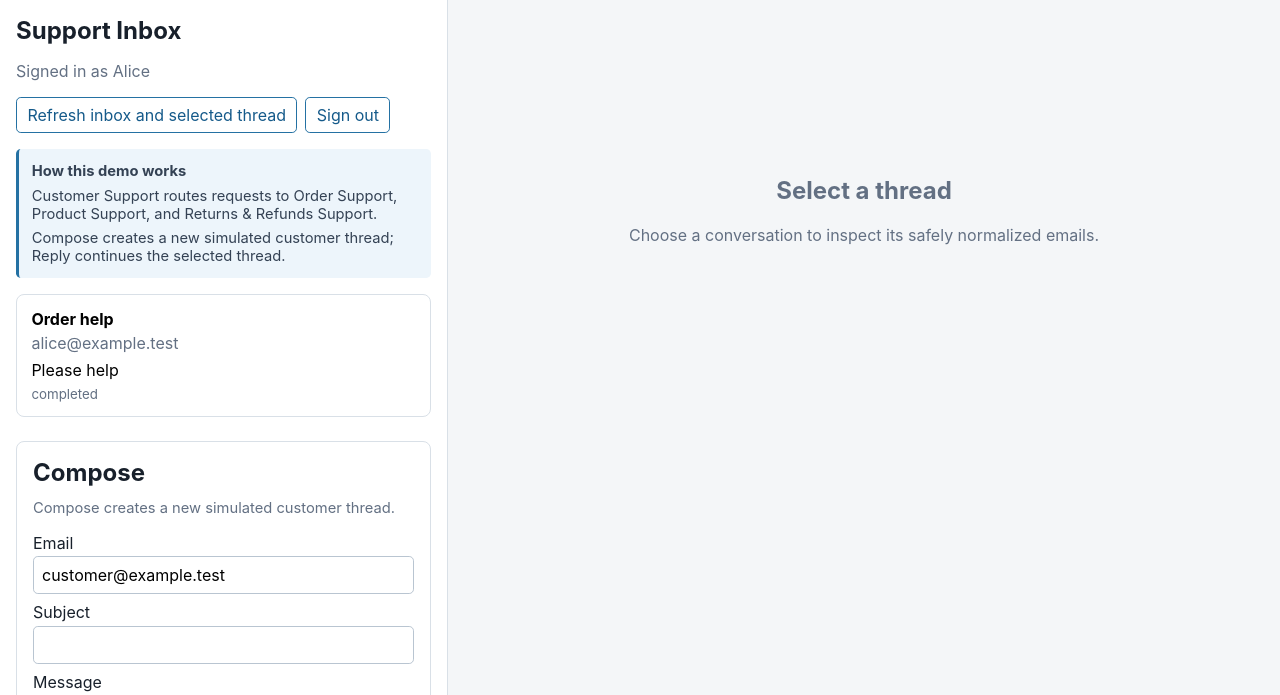
Support Inbox › disables sending and announces progress while a simulated email request is in progress
This screenshot has width=1280, height=695.
Check: the text "Order help" is shown, box [31,309,114,329]
Type "Order update" into the field labelled "Subject" at (224, 645), box [33,626,414,664]
(page scrolled)
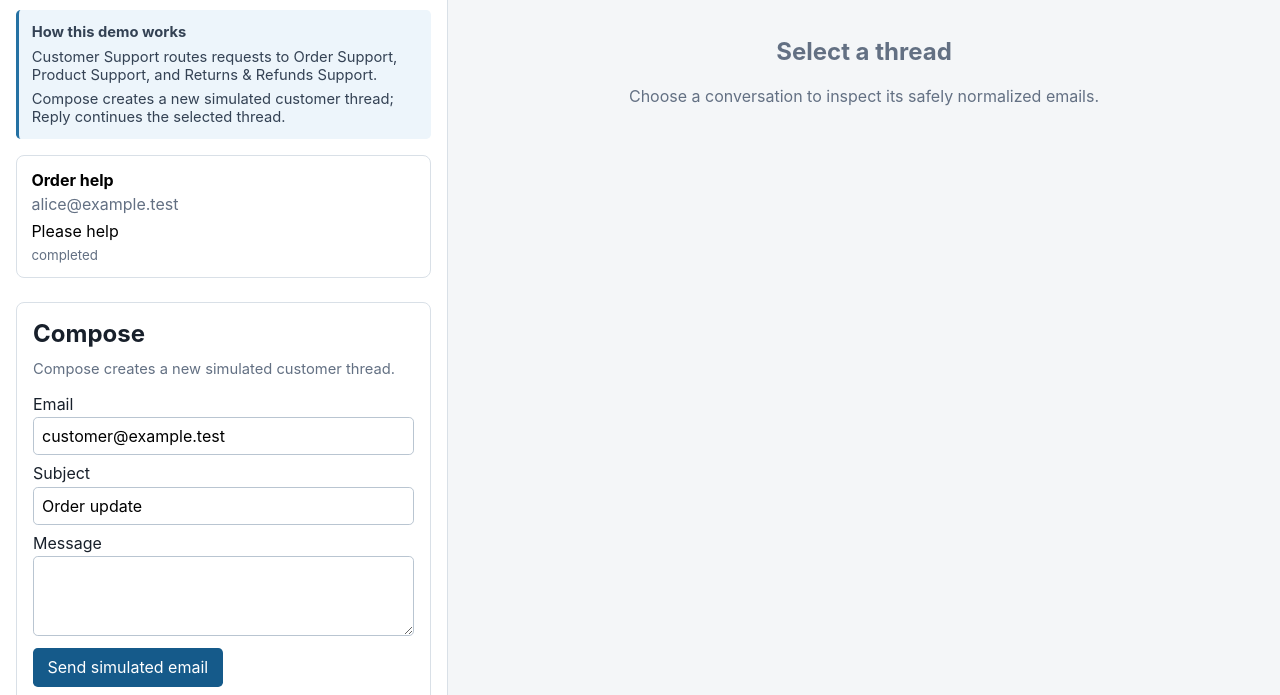
Type "Could you share an update?" into the text box labelled "Message" at (224, 596), box [33,556,414,636]
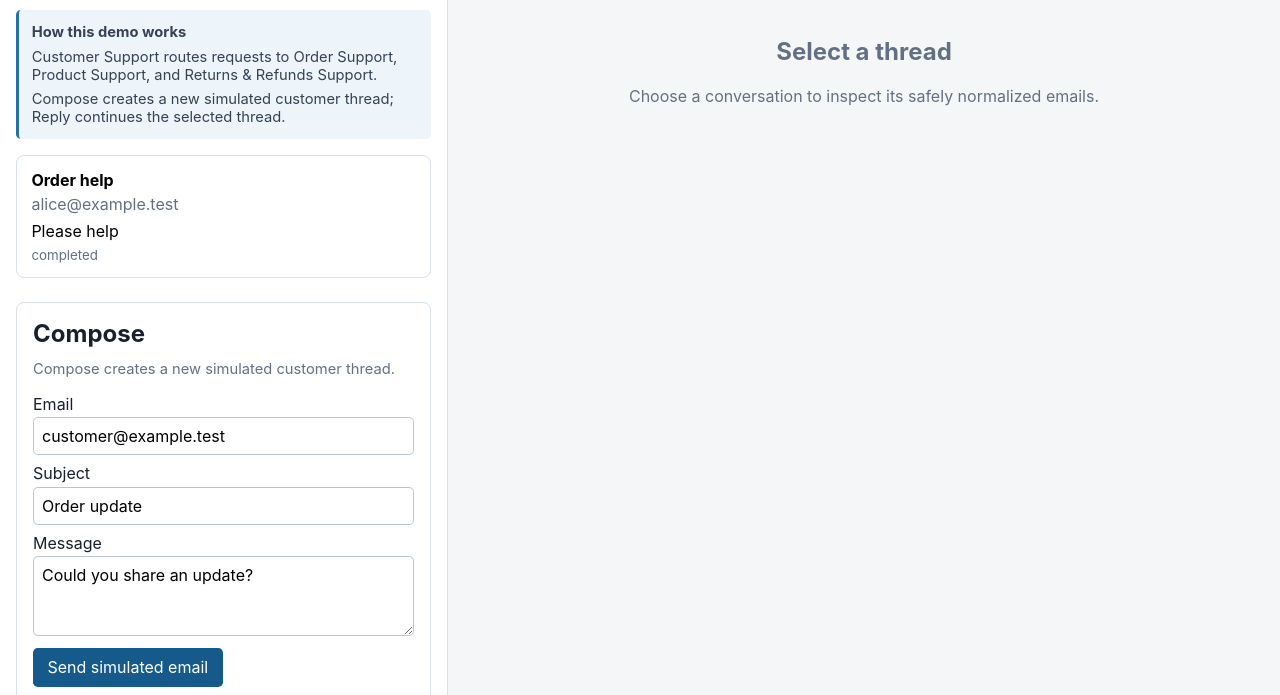
Click the button "Send simulated email" at (128, 667), box [33,648,223,687]
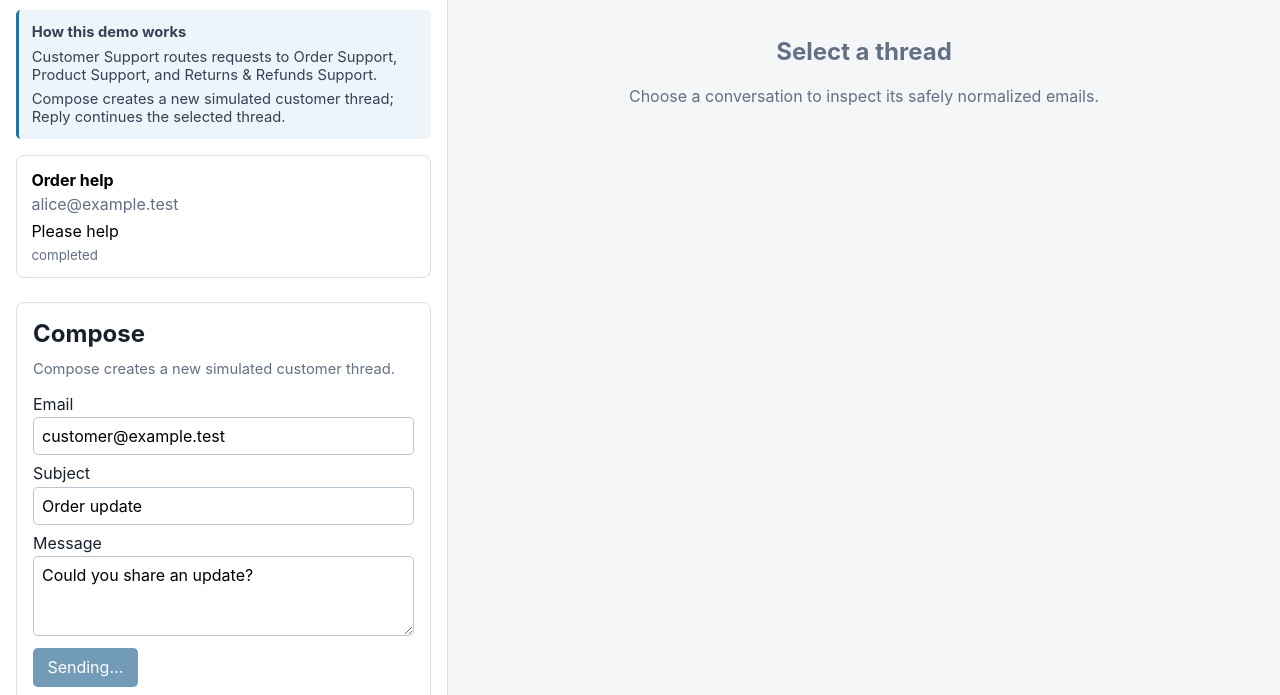
Check: the button "Sending…" is disabled, box [33,648,138,687]
